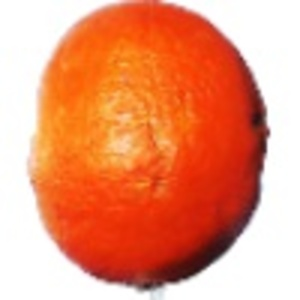tangerina: (25, 1, 272, 300)
